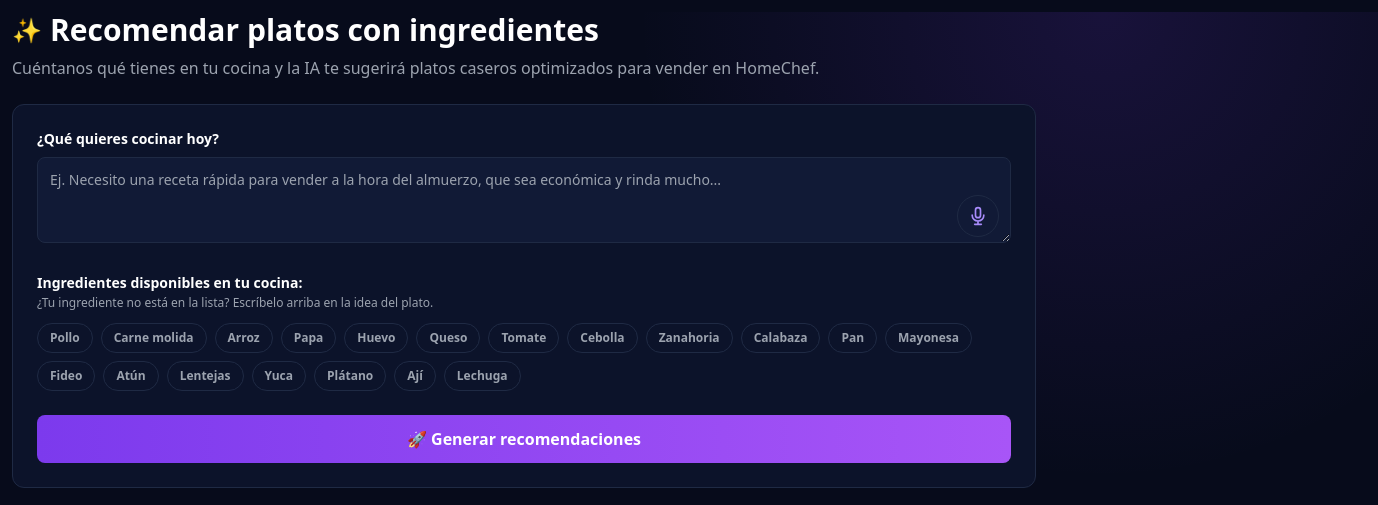
Test: Speech Dictation Integration › renders microphone button in AsistenteIaPage and updates textarea on transcript
Verify it doesn't break if clicked when not supported (shows support message)
Click the button titled "Dictar por voz": (978, 216) [957,195,999,237]
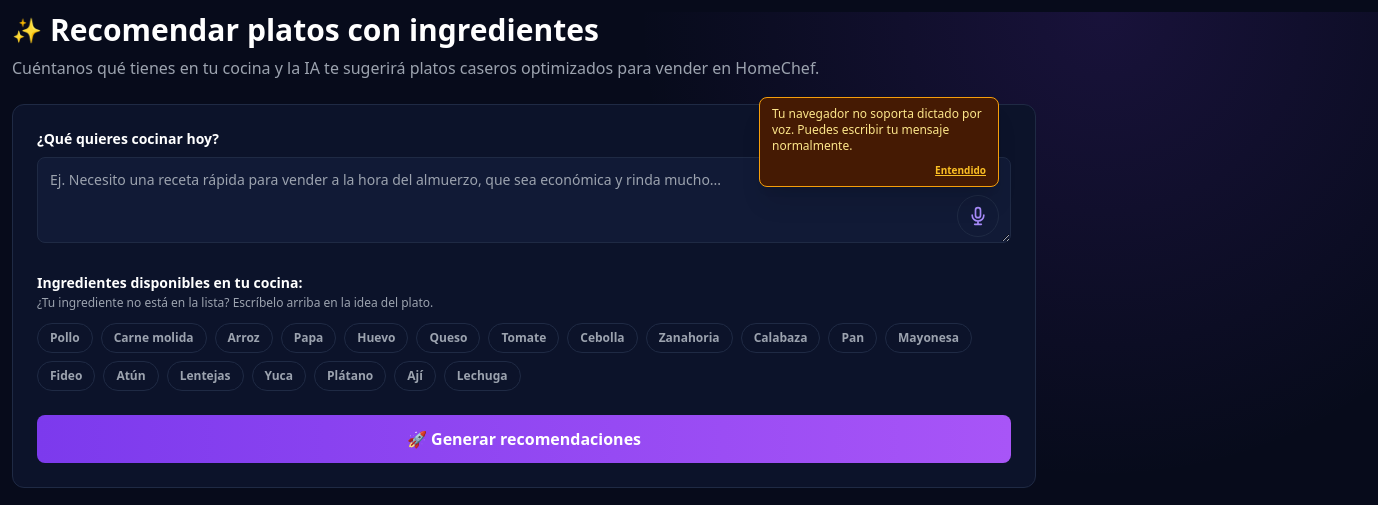
expect the text "Tu navegador no soporta dictado por voz" is shown: met, box [772,105,982,154]
